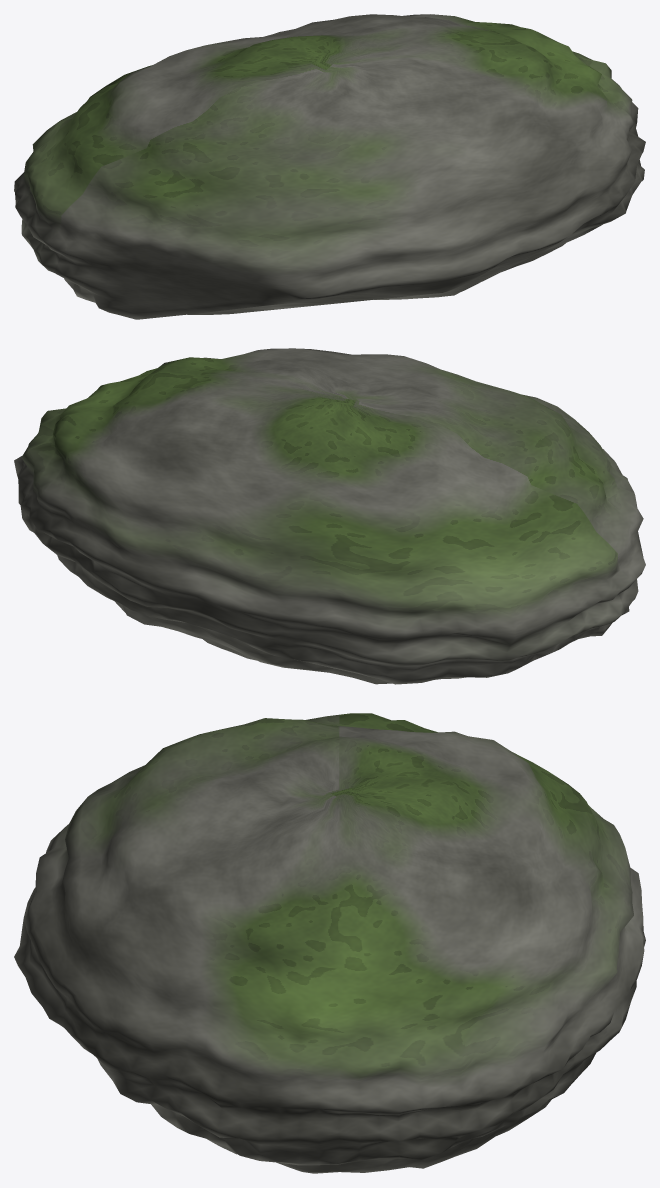
File: PZ_R03_Low_Sediment_Slab_Moss.glb
3 views of the same model, one above another, from view 1: azimuth 30°, elevation 25°; view 2: azimuth 150°, elevation 25°; view 3: azimuth 270°, elevation 25° (orthographic). The views are drawn at different scales.
Parts seen in each view (by area): view 1: RENDER_R03_Low_Sediment_Slab_Moss; view 2: RENDER_R03_Low_Sediment_Slab_Moss; view 3: RENDER_R03_Low_Sediment_Slab_Moss.
Boxes of the visible parts, bbox=[...] form: RENDER_R03_Low_Sediment_Slab_Moss: bbox=[14, 14, 645, 319]; RENDER_R03_Low_Sediment_Slab_Moss: bbox=[14, 348, 645, 684]; RENDER_R03_Low_Sediment_Slab_Moss: bbox=[14, 713, 645, 1173].
Size of the model in its own units: 0.85 by 0.29 by 0.64.
Materials: 1 (1 with a texture image).
